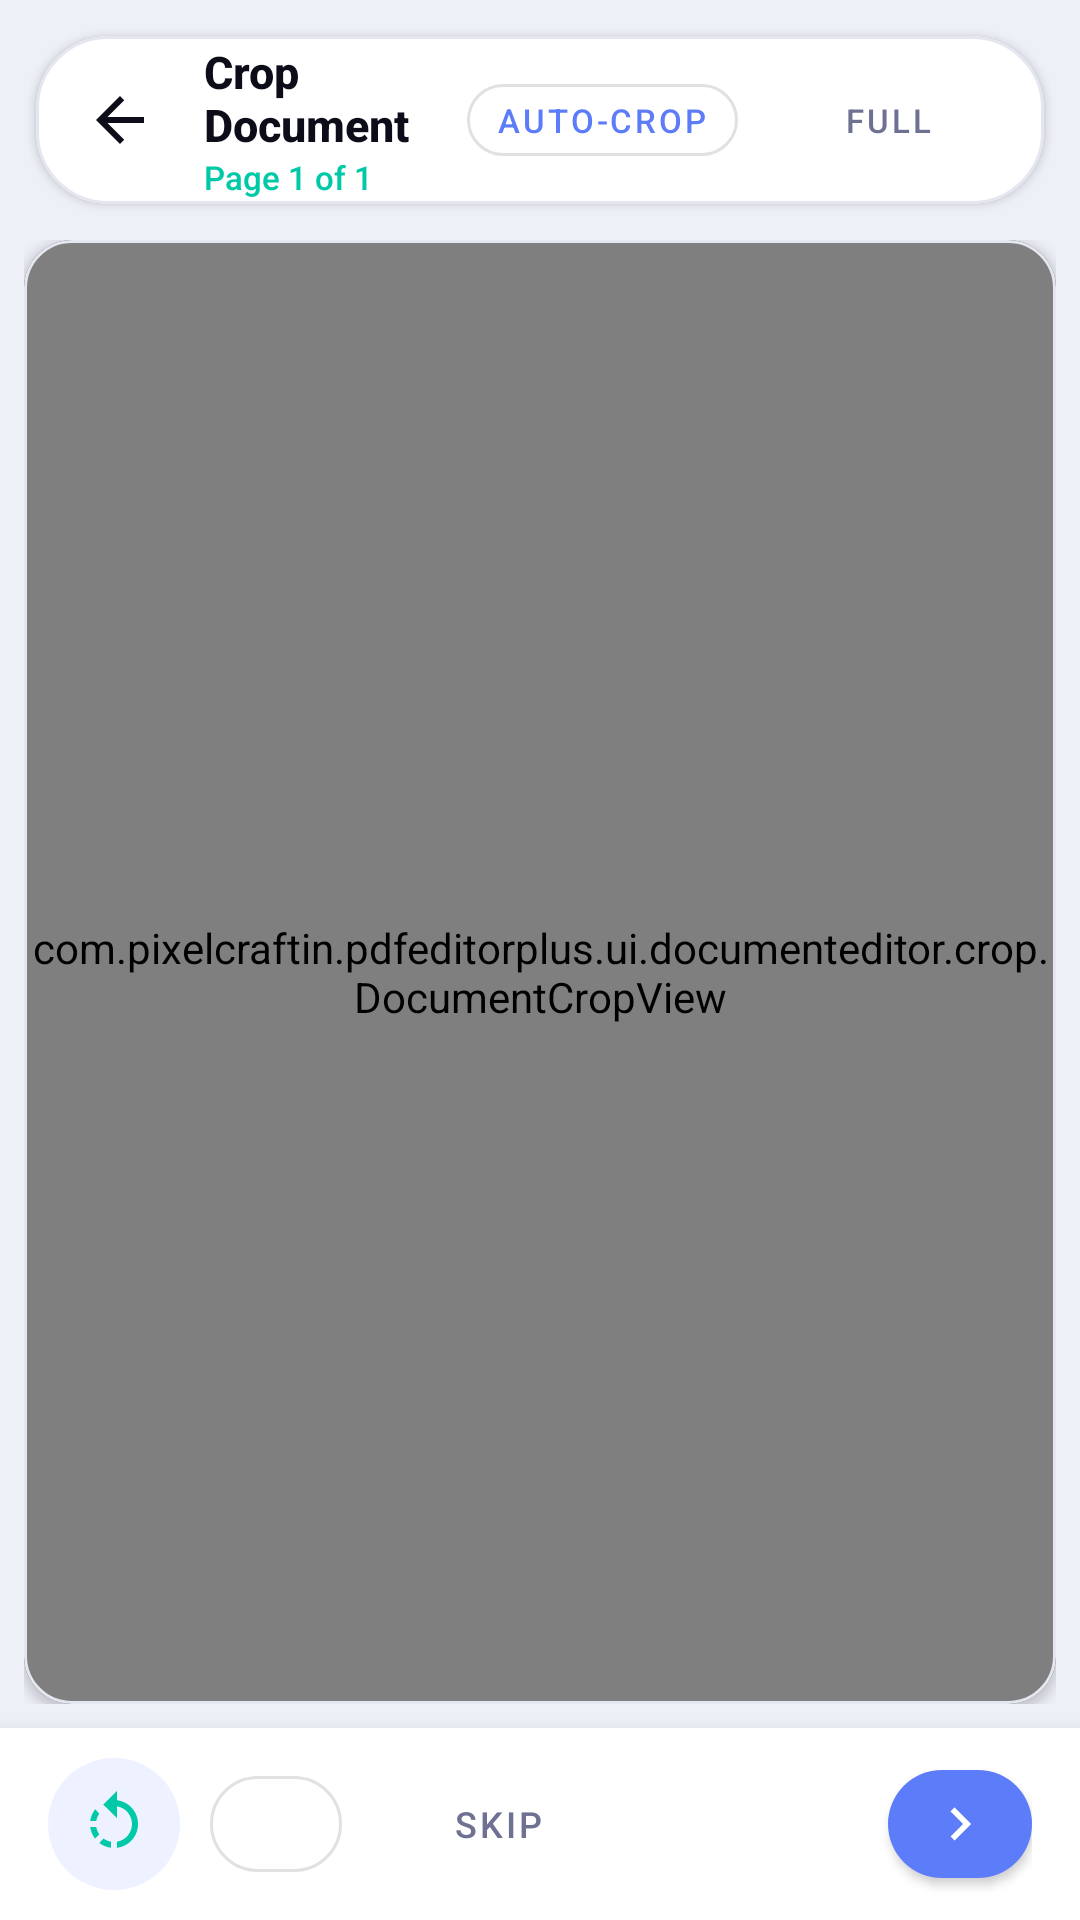

Where to tap for icons on this 1080×1920 app screen, as point (x, y):
Back: point (120, 120)
Next Page or Apply: point (960, 1827)
Rotate 90°: point (114, 1824)
